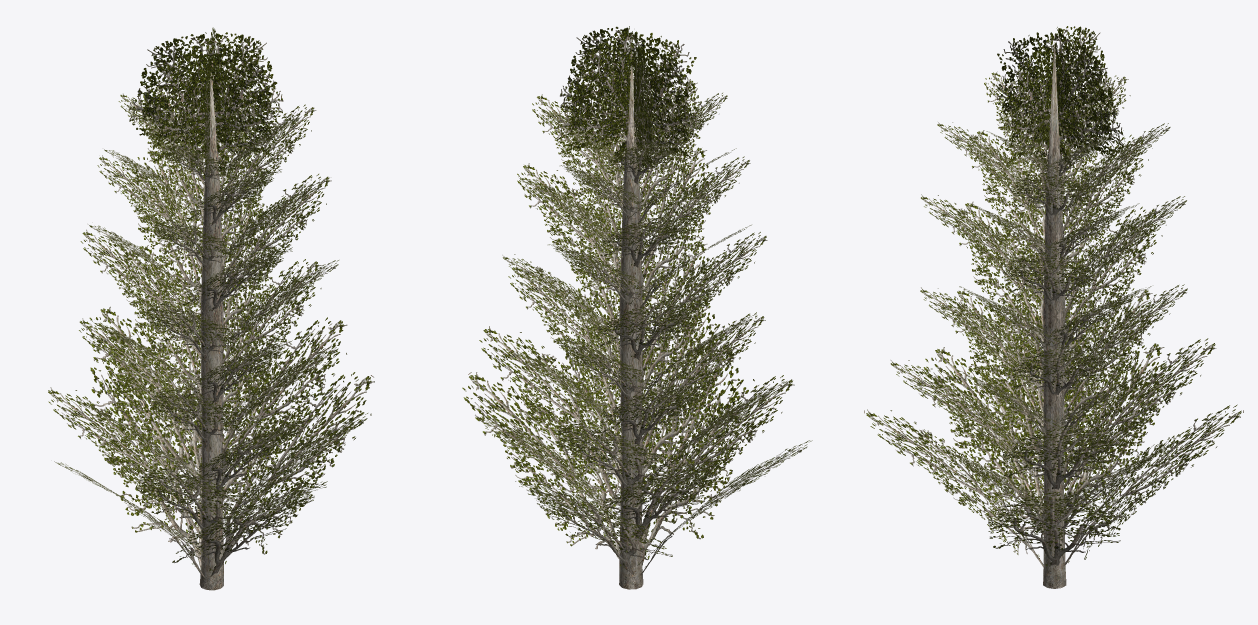
File: Sharp_Poplar03.gltf
3 renders of one model, left to right at view 1: azimuth 30°, elevation 25°; view 2: azimuth 150°, elevation 25°; view 3: azimuth 270°, elevation 25°, orthographic.
Visible parts, largest first — view 1: A, top, c, b, f, g, e, d, Trunk, h, I, j; view 2: A, top, c, b, g, f, e, d, Trunk, h, I, j; view 3: A, c, b, top, f, e, g, d, Trunk, h, I, j.
Part boxes in pixels (x1,y1,x2,y2): A: (54,346,374,578); top: (129,27,283,175); c: (75,306,347,500); b: (48,335,367,541); f: (80,197,338,362); g: (88,150,331,312); e: (93,245,321,406); d: (79,285,338,447); Trunk: (199,47,223,590); h: (97,128,321,271); I: (104,84,316,227); j: (118,72,299,187); A: (462,343,812,575); top: (556,26,697,168); c: (479,294,789,498); b: (475,333,794,539); g: (517,147,751,308); f: (502,193,767,359); e: (508,241,756,402); d: (507,277,765,444); Trunk: (619,41,643,589); h: (519,127,750,267); I: (532,80,736,223); j: (542,65,727,183); A: (864,337,1243,567); c: (890,289,1216,490); b: (923,343,1180,528); top: (996,26,1123,169); f: (954,201,1162,351); e: (920,238,1187,395); g: (921,141,1186,301); d: (948,288,1157,436); Trunk: (1043,42,1066,588); h: (967,130,1148,260); I: (937,83,1170,215); j: (984,71,1130,176).
Bounding box in the file's own units: 24.09 × 38.42 × 23.76.
2 materials, 2 textured.
